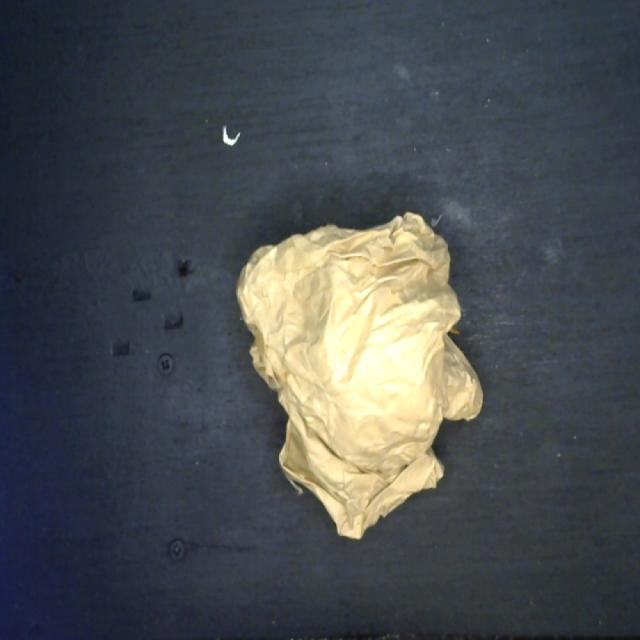biodegradable: (233, 210, 486, 545)
